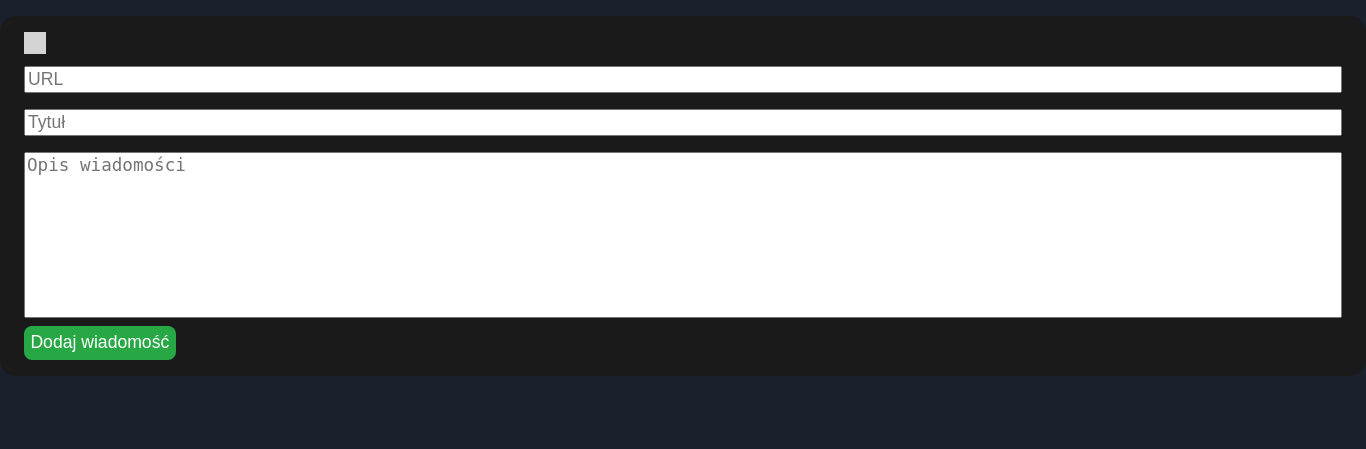
<NewsCreator /> › is not creating a news if data is in incorrect type
Step 1. Type "test" into the field with placeholder "URL" → (683, 80), box top-left (24, 66), bottom-right (1342, 93)
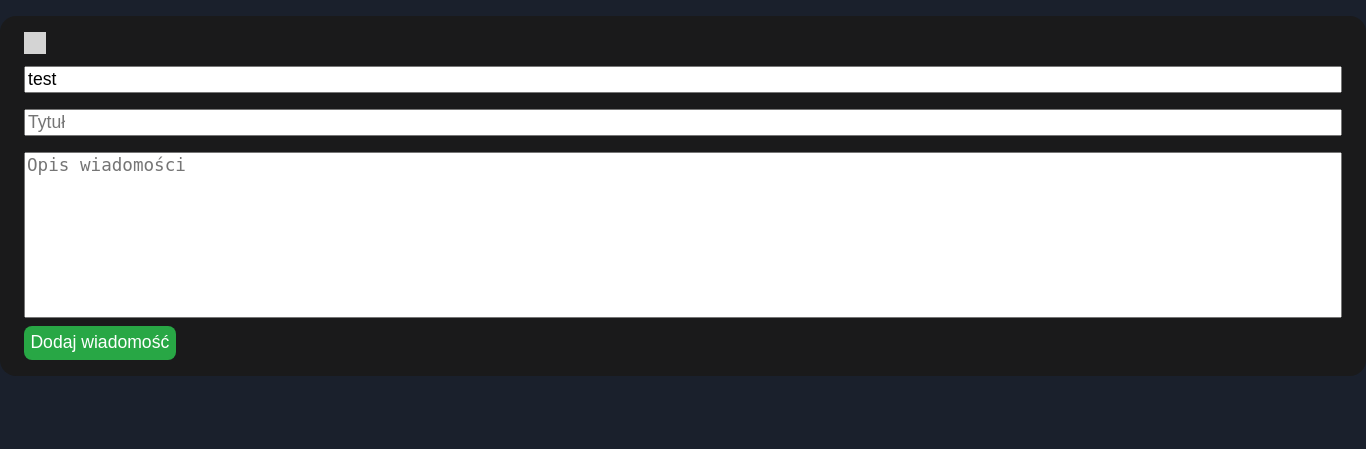
Step 2. Type "123" into the field with placeholder "Tytuł" → (683, 122), box top-left (24, 109), bottom-right (1342, 136)
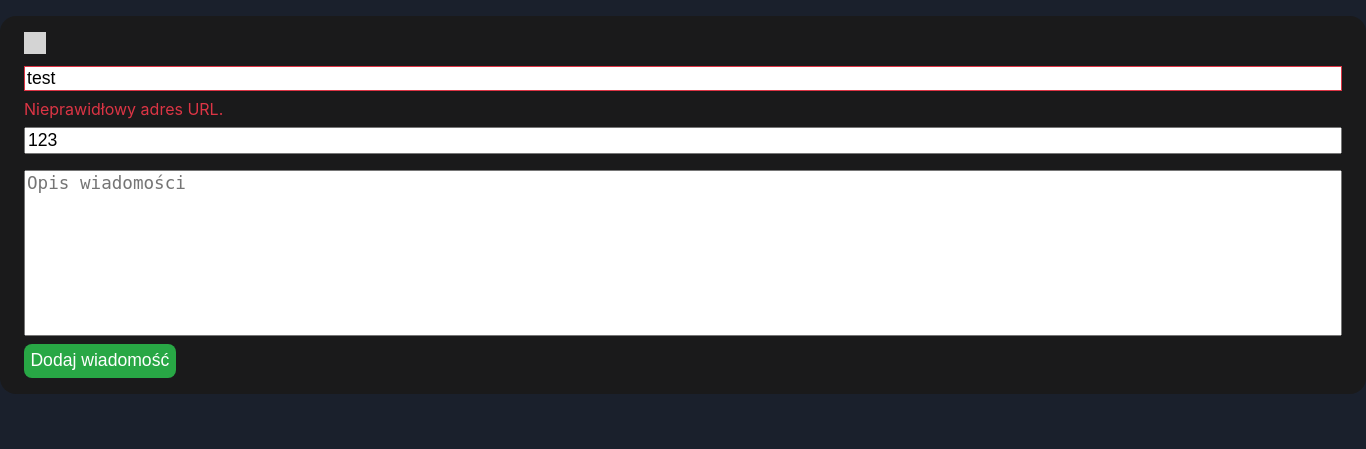
Step 3. Type "123" into the text box → (683, 253), box top-left (24, 170), bottom-right (1342, 336)
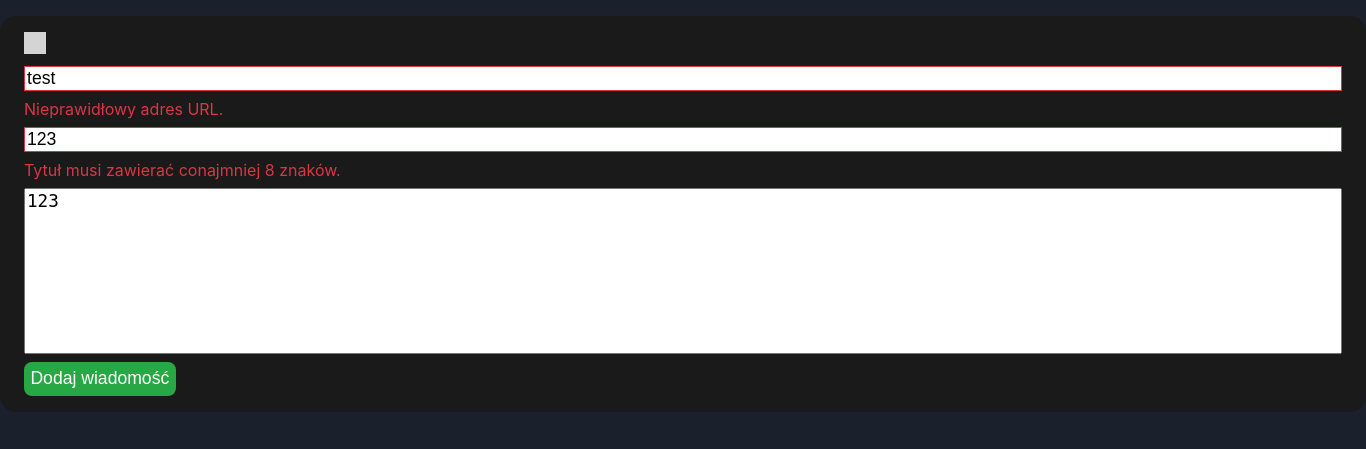
Step 4. Click the button → (100, 379), box top-left (24, 362), bottom-right (176, 396)
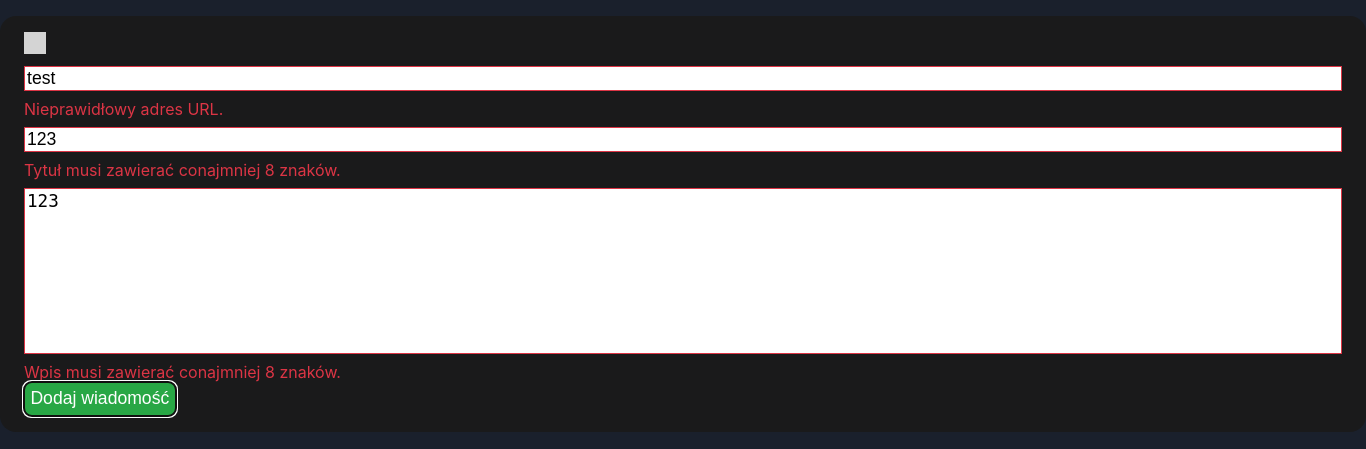
Result: the text "Tytuł musi zawierać conajmniej 8 znaków." is shown at top-left (24, 160), bottom-right (341, 180)
Result: the text "Nieprawidłowy adres URL." is shown at top-left (24, 99), bottom-right (223, 119)
Result: the text "Wpis musi zawierać conajmniej 8 znaków." is shown at top-left (24, 362), bottom-right (341, 382)
